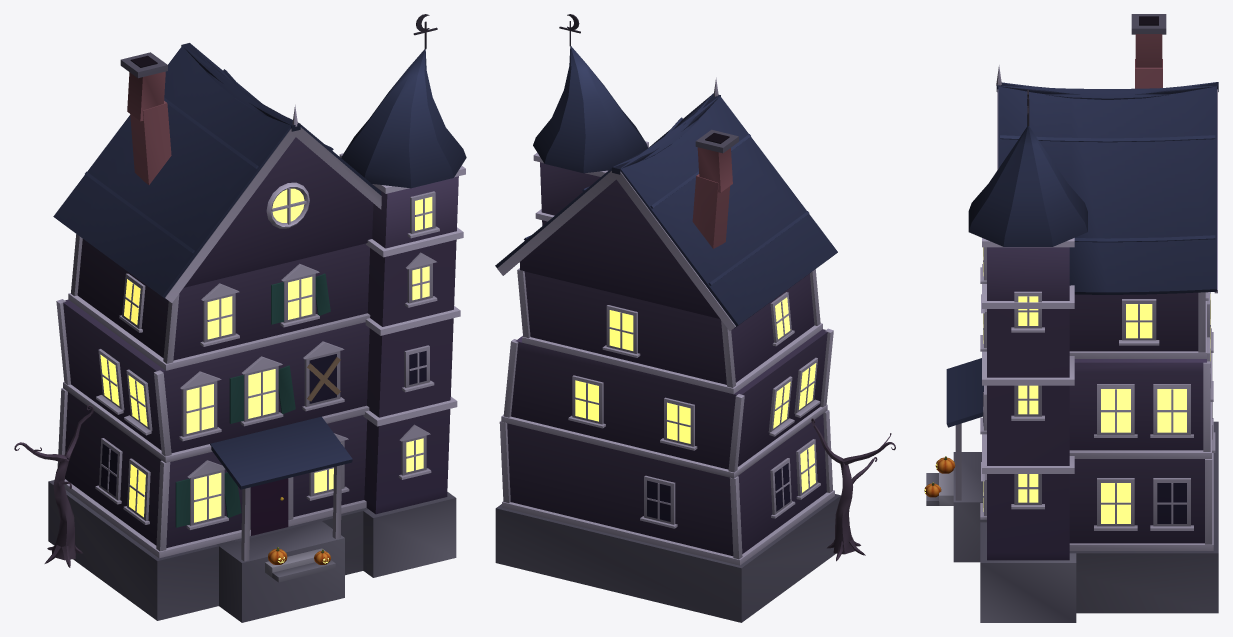
The model's file is haunted_mansion.glb.
3 views of the same model, side by side, from view 1: azimuth 30°, elevation 25°; view 2: azimuth 150°, elevation 25°; view 3: azimuth 270°, elevation 25° (orthographic). The views are drawn at different scales.
Visible parts, largest first — view 1: haunted_mansion; view 2: haunted_mansion; view 3: haunted_mansion.
Boxes of the visible parts, x1,y1,x2,y2 form: haunted_mansion: [14, 14, 466, 622]; haunted_mansion: [495, 14, 895, 622]; haunted_mansion: [924, 14, 1218, 622].
Bounding box in the file's own units: 14.42 × 17.62 × 8.89.
